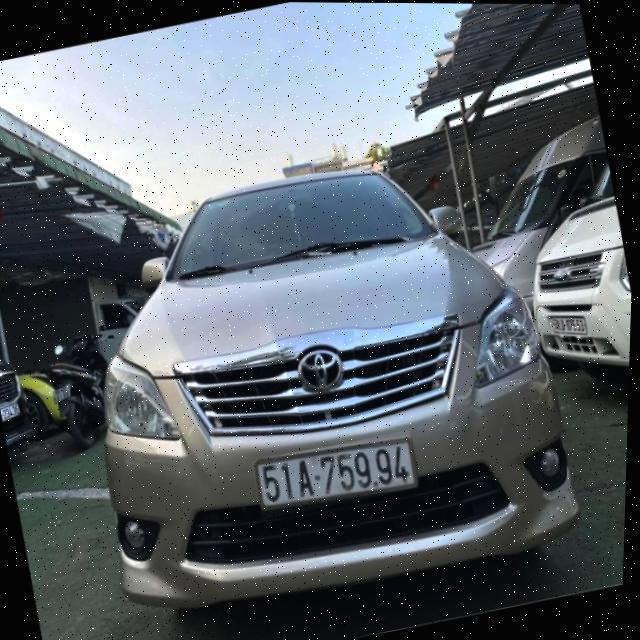car: (44, 128, 607, 640), (503, 170, 635, 422)
motorcycle: (15, 340, 117, 460)
plate: (246, 425, 428, 522), (543, 303, 597, 345), (0, 395, 24, 426)
